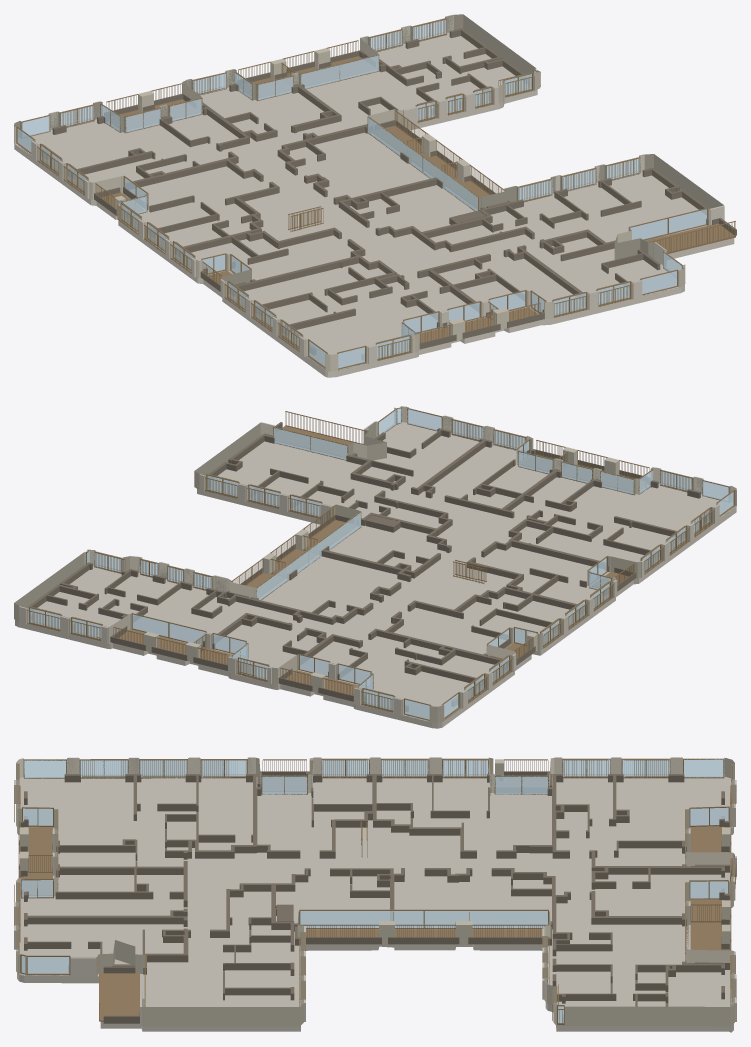
The picture shows the model from 3 angles, top to bottom: view 1: azimuth 30°, elevation 25°; view 2: azimuth 150°, elevation 25°; view 3: azimuth 270°, elevation 25°; orthographic projection. The views are drawn at different scales.
Bounding box in the file's own units: 31.94 × 1.57 × 39.
